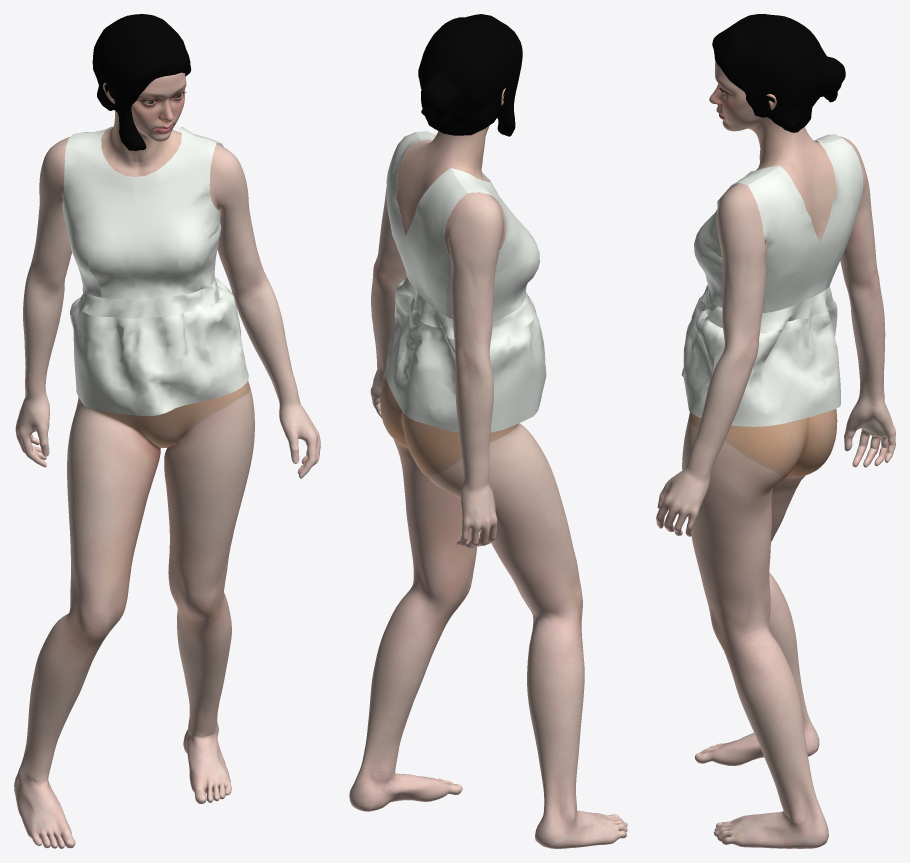
The model's file is random.obj.
The picture shows the model from 3 angles, left to right: view 1: azimuth 30°, elevation 25°; view 2: azimuth 150°, elevation 25°; view 3: azimuth 270°, elevation 25°; orthographic projection. The views are drawn at different scales.
Size of the model in its own units: 612 by 1724 by 471.
